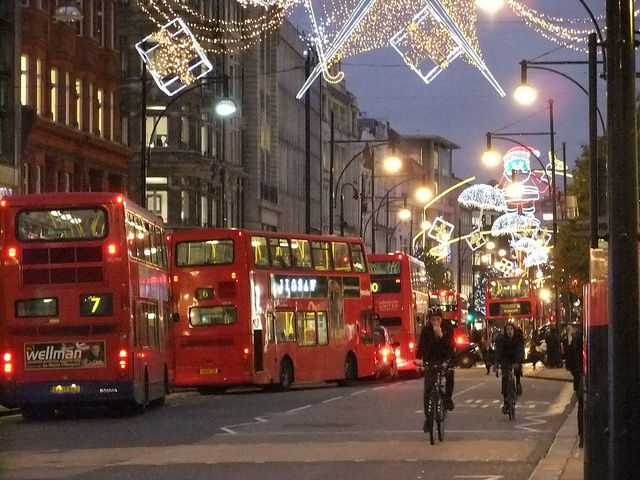non-vehicle: (411, 360, 448, 445), (497, 363, 523, 420)
